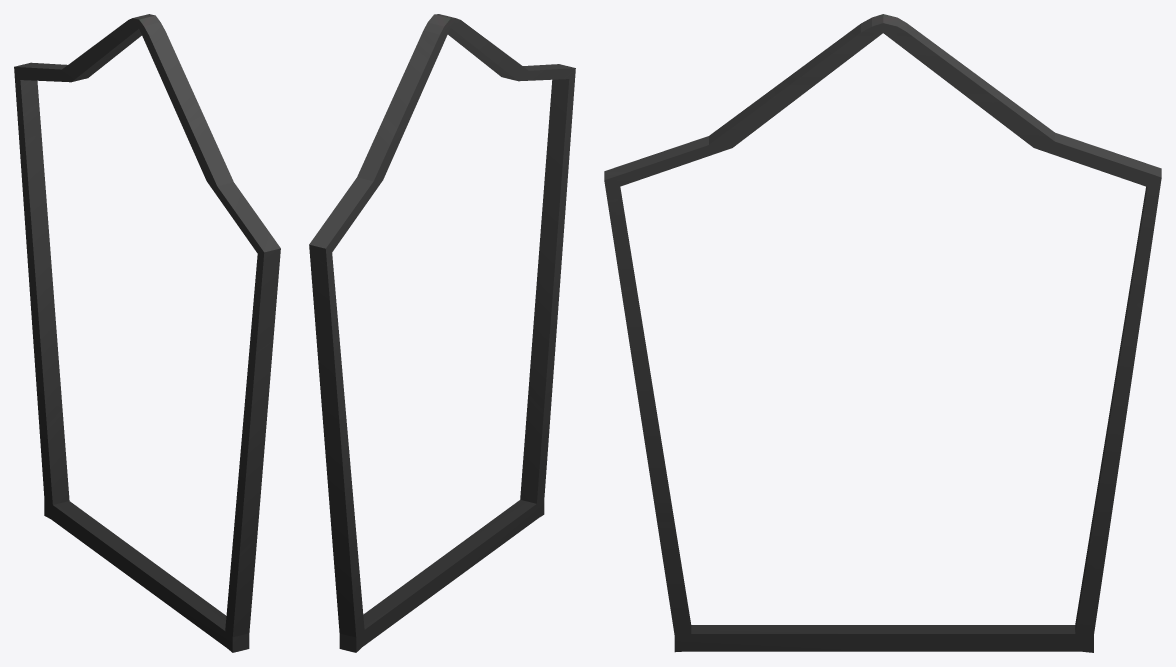
File: cornice_finestra_lvl5.fbx
3 views of the same model, side by side, from view 1: azimuth 30°, elevation 25°; view 2: azimuth 150°, elevation 25°; view 3: azimuth 270°, elevation 25° (orthographic). The views are drawn at different scales.
Parts seen in each view (by area): view 1: pCube4; view 2: pCube4; view 3: pCube4.
Boxes of the visible parts, bbox=[...] form: pCube4: bbox=[14, 14, 280, 652]; pCube4: bbox=[309, 14, 575, 652]; pCube4: bbox=[604, 14, 1161, 652].
Bounding box in the file's own units: 23.79 × 770 × 617.
